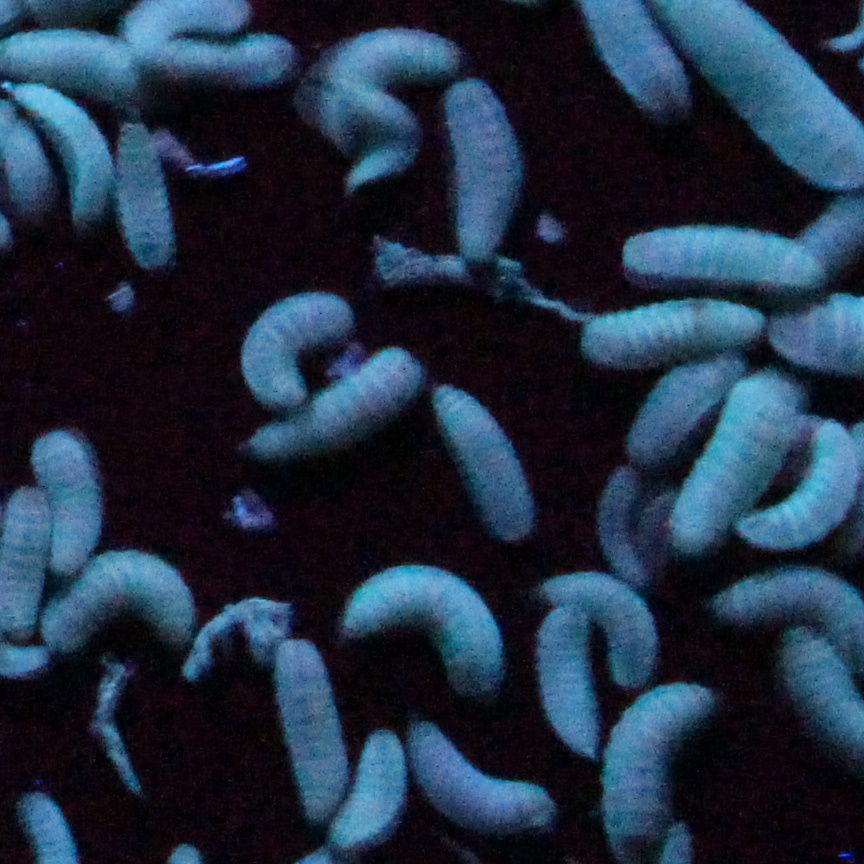larve: (334, 556, 505, 694), (669, 368, 793, 550), (245, 348, 413, 474), (409, 714, 565, 848), (7, 79, 120, 250), (294, 23, 453, 136), (429, 376, 536, 539), (438, 78, 529, 265), (267, 636, 354, 825), (614, 218, 834, 290), (745, 419, 858, 552), (540, 565, 660, 688), (42, 550, 194, 647), (631, 343, 742, 463), (571, 294, 762, 363), (105, 114, 189, 270), (27, 423, 111, 570), (531, 601, 607, 758), (338, 78, 433, 203), (245, 292, 345, 410), (325, 728, 402, 850), (583, 468, 653, 585), (165, 32, 287, 87), (0, 487, 43, 634)
